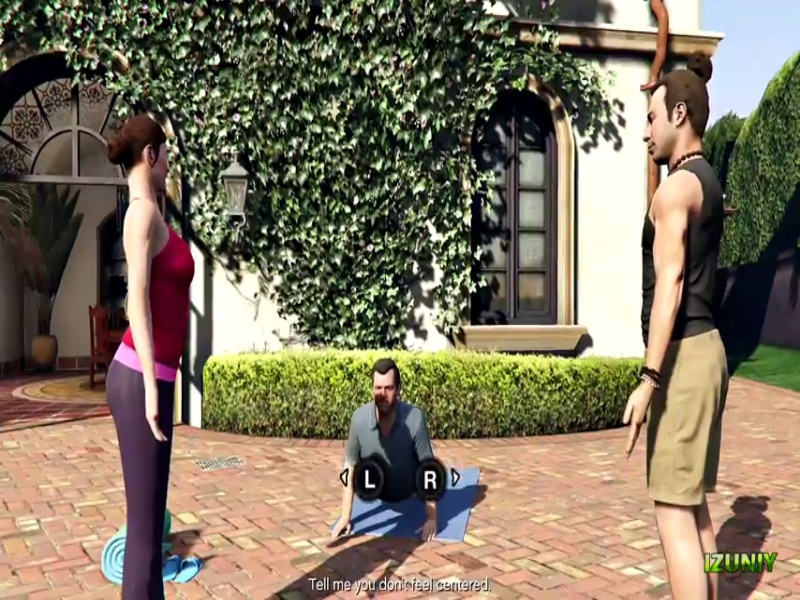human: (338, 356, 472, 547)
